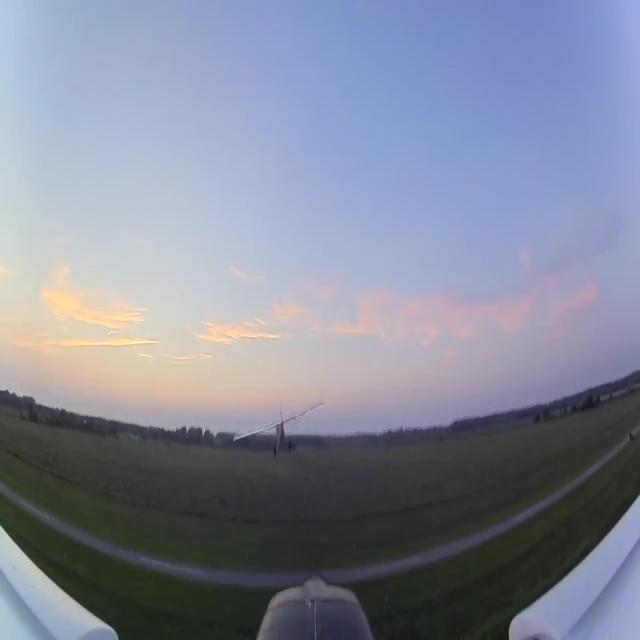iha: (264, 398, 292, 460)
